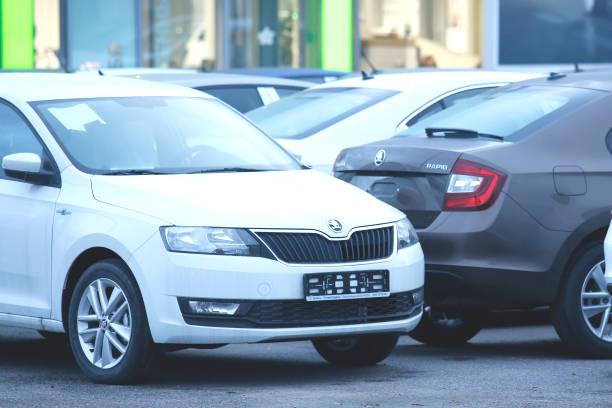skoda: (322, 213, 348, 238), (371, 146, 390, 170)
